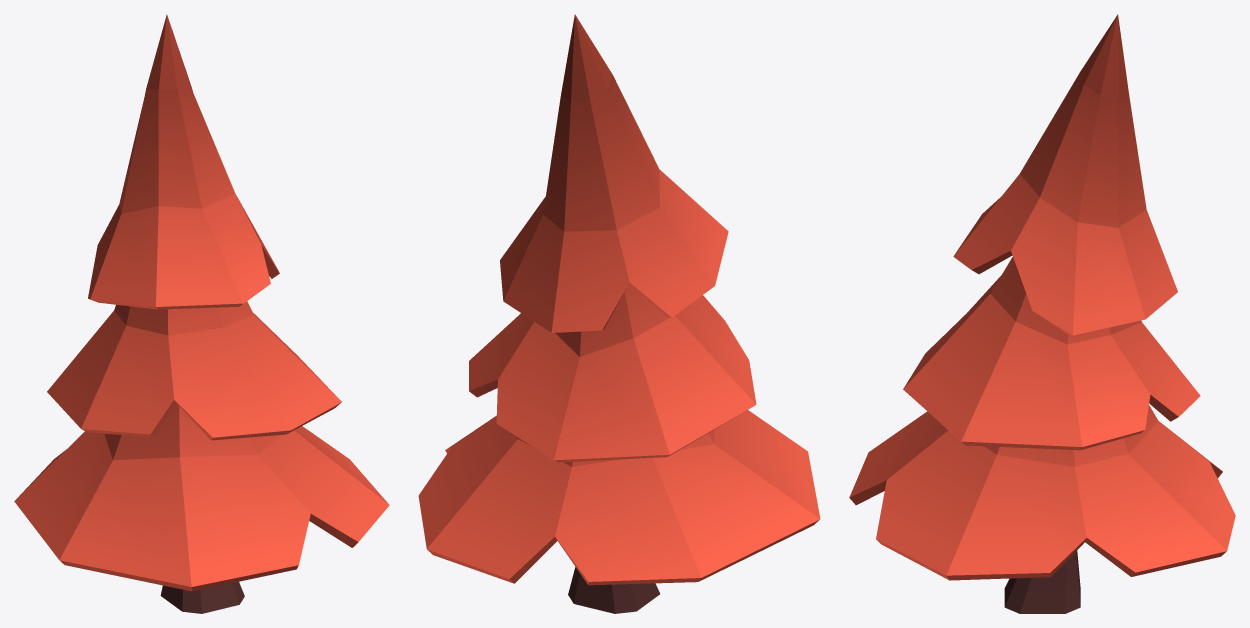
File: RedPine3.fbx
The picture shows the model from 3 angles, left to right: view 1: azimuth 30°, elevation 25°; view 2: azimuth 150°, elevation 25°; view 3: azimuth 270°, elevation 25°; orthographic projection. The views are drawn at different scales.
Parts seen in each view (by area): view 1: RedPine3; view 2: RedPine3; view 3: RedPine3.
Boxes of the visible parts, box(x1,y1,x2,y2) form: RedPine3: box(14, 14, 389, 613); RedPine3: box(418, 14, 820, 613); RedPine3: box(849, 14, 1235, 613).
Size of the model in its own units: 366 by 613 by 368.
